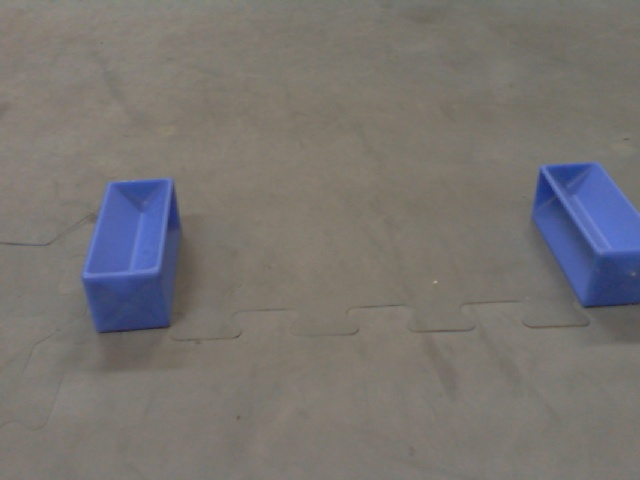BlueSample: (80, 177, 186, 332), (530, 160, 640, 307)
